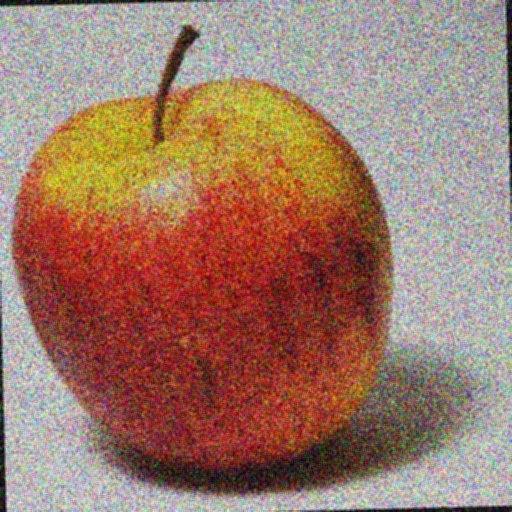fruit: (83, 42, 260, 114), (1, 130, 38, 444)
